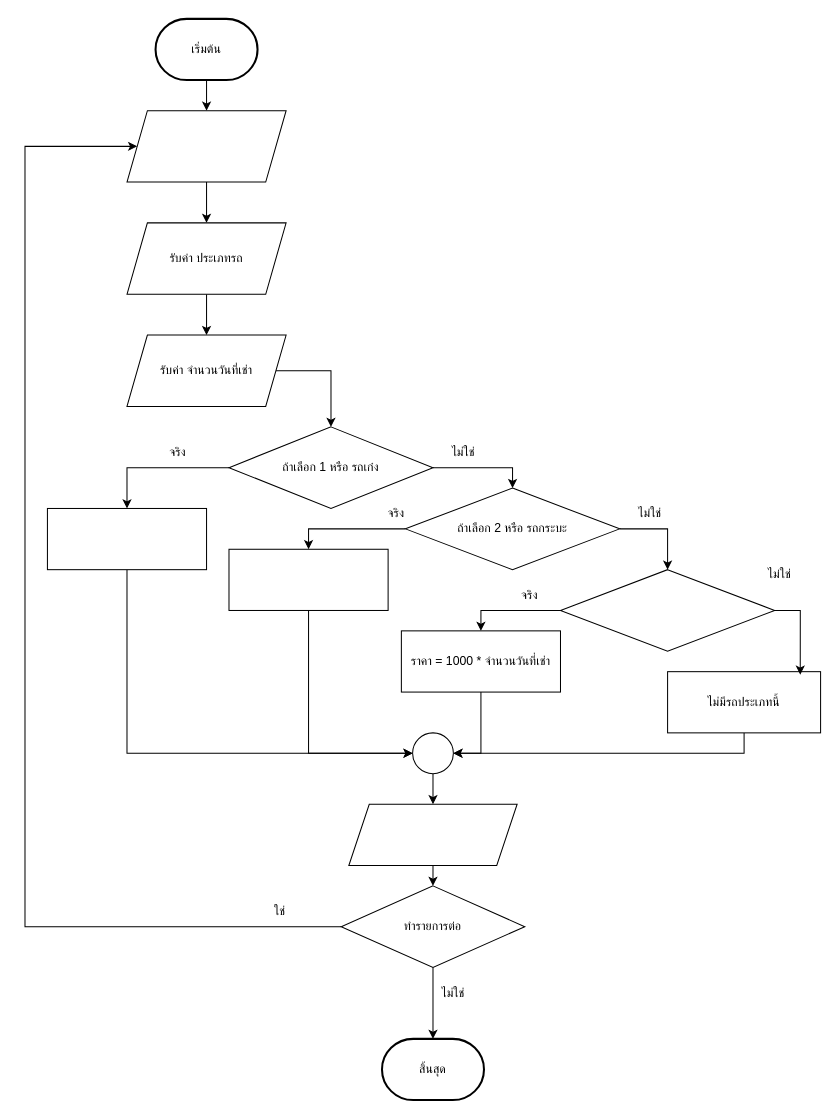
Image size: 838x1118. Some labels were removed from this diagram. The centre of each missing label's shape, as x and y in pixels:
"ถ้าเลือก 3 หรือ รถตู้" belongs at pixel 667 610.
"ราคา = 500 * จำนวนวันที่เช่า" belongs at pixel 126 538.
"ราคา = 700 * จำนวนวันที่เช่า" belongs at pixel 308 579.
"แสดงข้อมูลการจองรถ / จำนนวนวัน / ราคารวม" belongs at pixel 432 834.
"แสดงประเภทรถ 1. รถเก๋ง 2.รถกระบะ 3.รถตู้" belongs at pixel 206 146.
